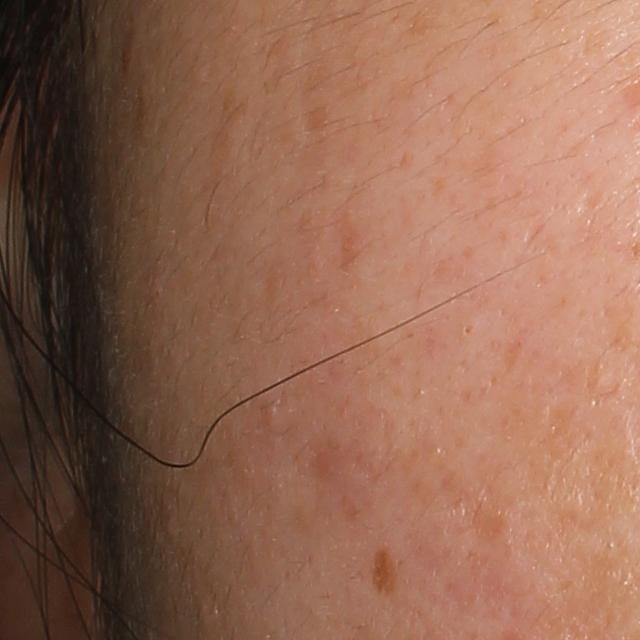comedo: (263, 401, 283, 418), (460, 321, 474, 337)
melasma: (205, 81, 253, 181), (370, 548, 401, 593)
